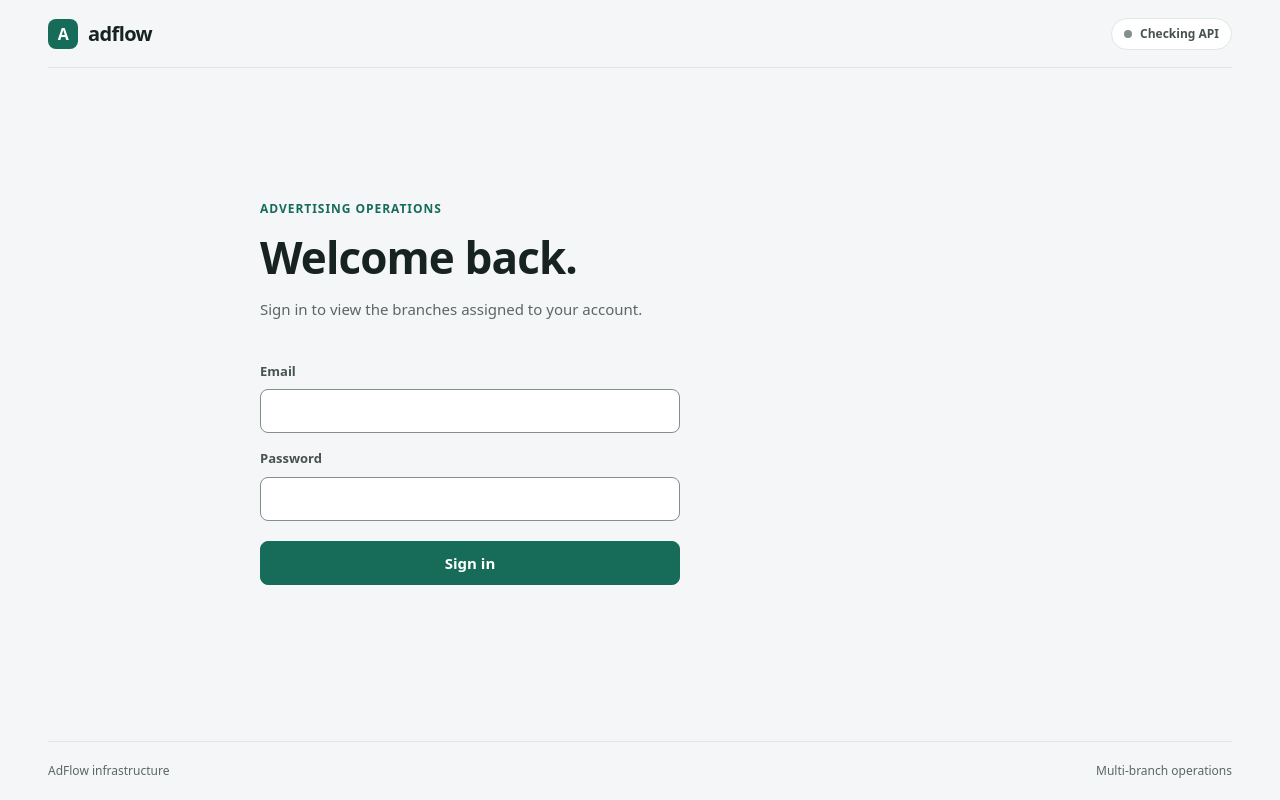
Test: AdFlow Sprint 1 application shell › shows a generic login error when credentials are rejected
Type "admin@example.local" into the field labelled "Email".
click(470, 411); type("admin@example.local")  # box [260, 389, 680, 433]
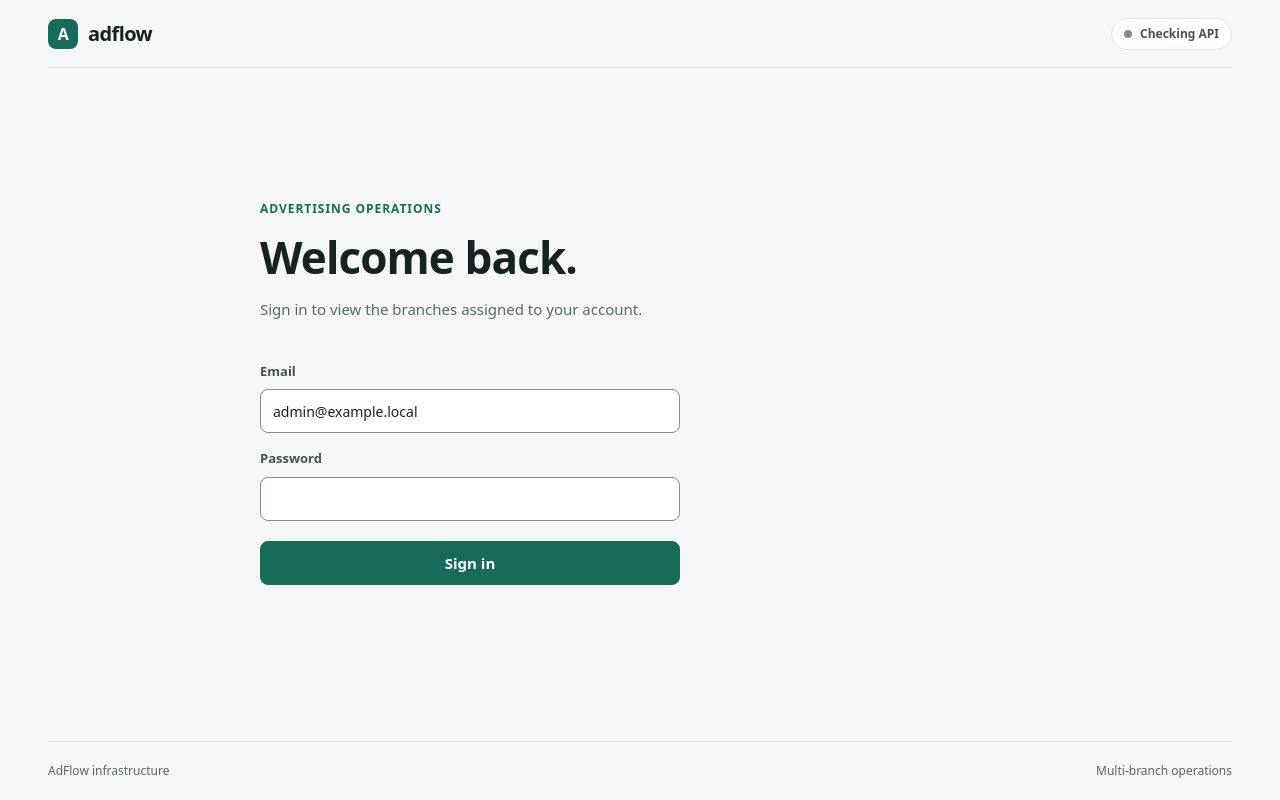
Type "bad-password" into the password field labelled "Password".
click(470, 499); type("bad-password")  # box [260, 477, 680, 521]
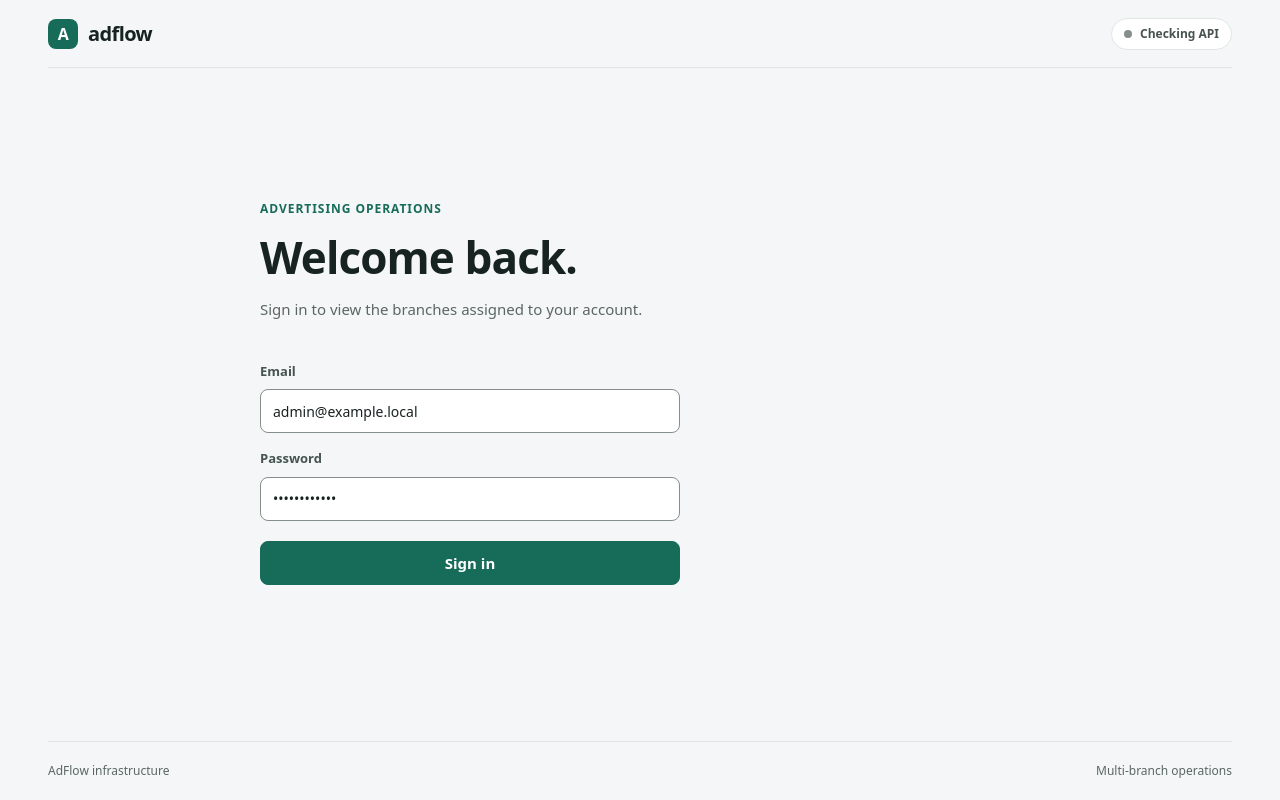
Click the button "Sign in".
click(470, 563)  # box [260, 541, 680, 585]
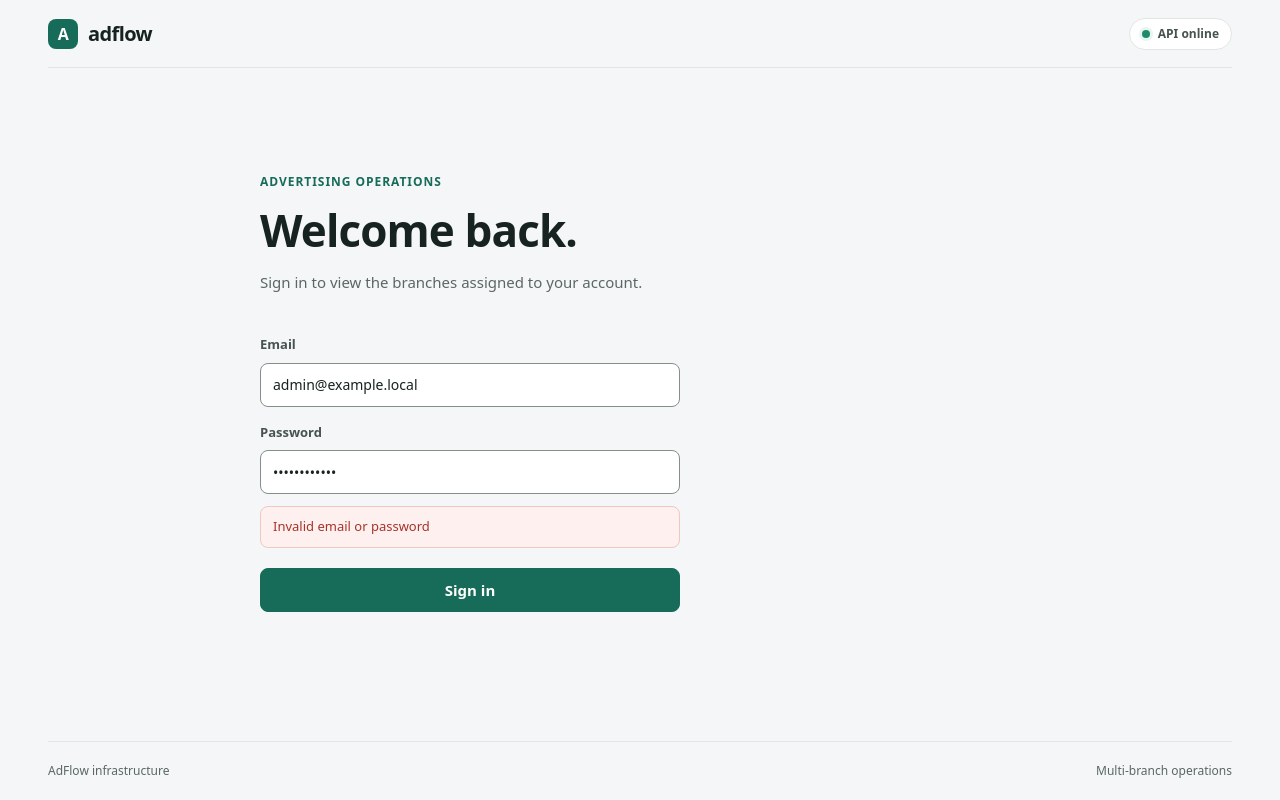
Result: the message "Invalid email or password" is shown at [260, 506, 680, 548]
